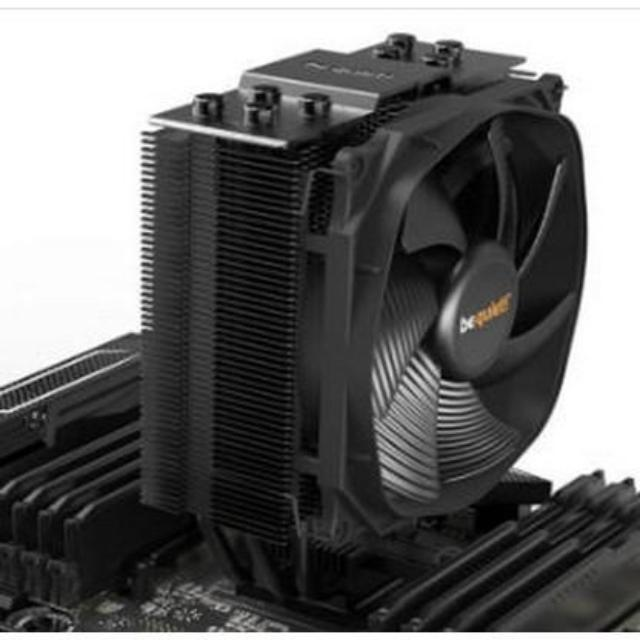CPU_Fan: (139, 31, 579, 564)
